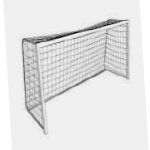goals: (19, 17, 133, 137)
